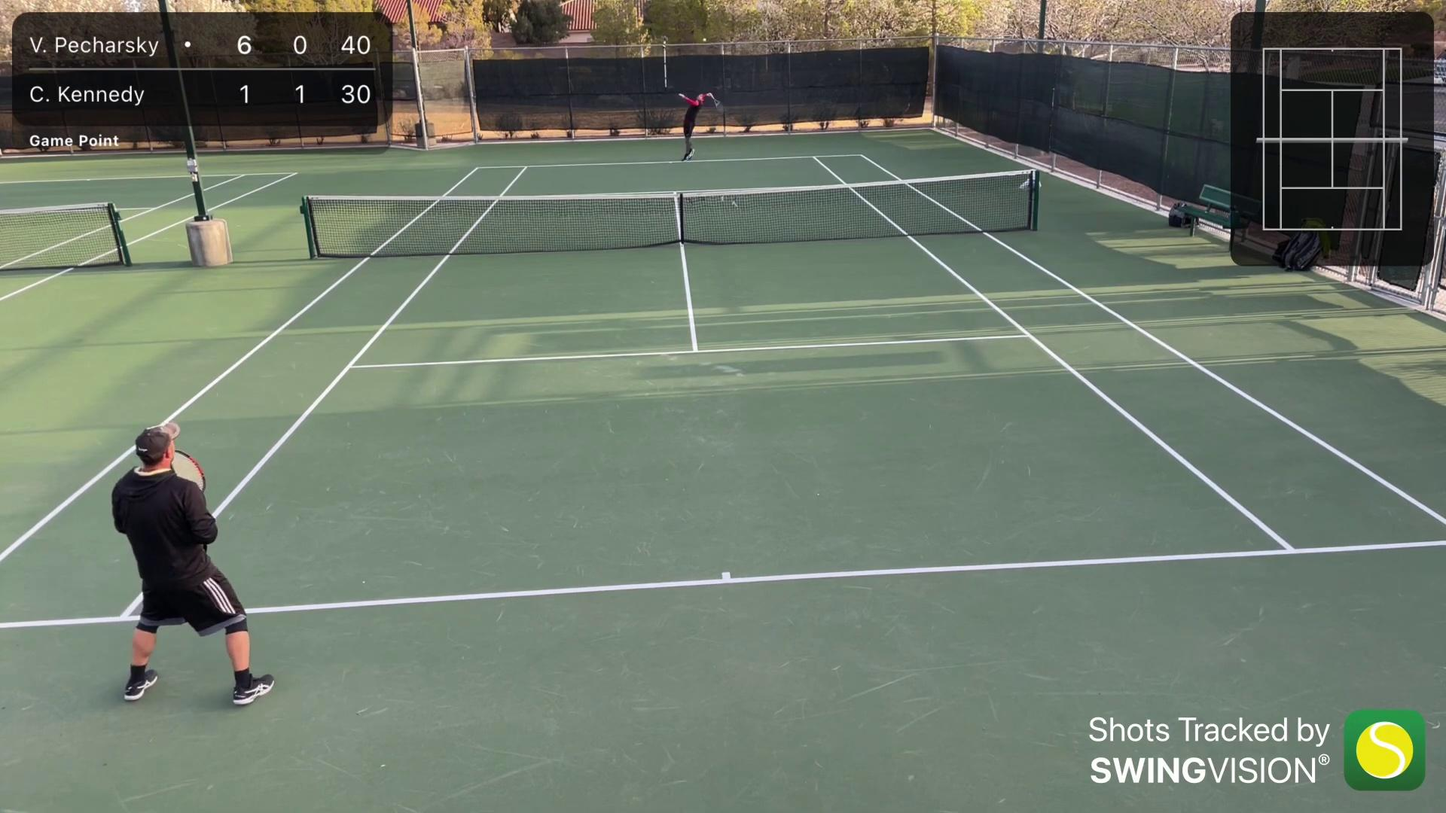ball: (702, 37, 707, 42)
